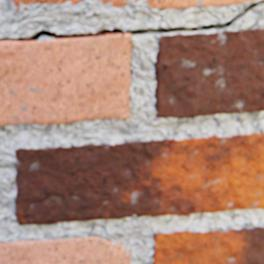brick: (15, 133, 263, 224), (0, 33, 130, 125), (153, 29, 263, 117), (152, 226, 263, 263), (0, 235, 129, 263), (146, 0, 254, 8), (12, 0, 83, 9), (100, 0, 128, 7)
crack: (0, 0, 263, 40)
